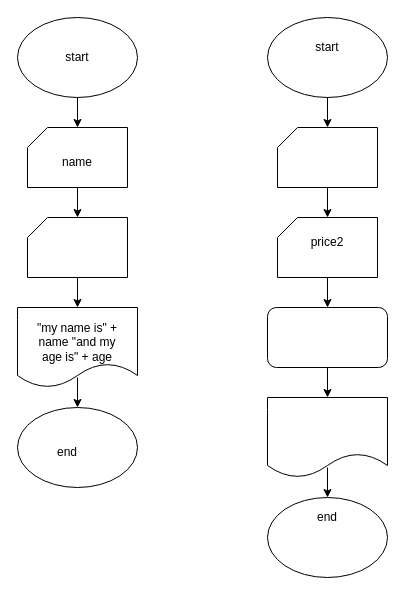
Some shapes in this 405 by 595 pixel diagram are drawn without their labels. The shapes that lost their labels are listed below. From the top down, each one's centre as x and y in pixels, then its label:
the point at 327,157: price1
the point at 77,247: age
the point at 327,337: avarge=(price1+price2)/2
the point at 327,437: avarge
